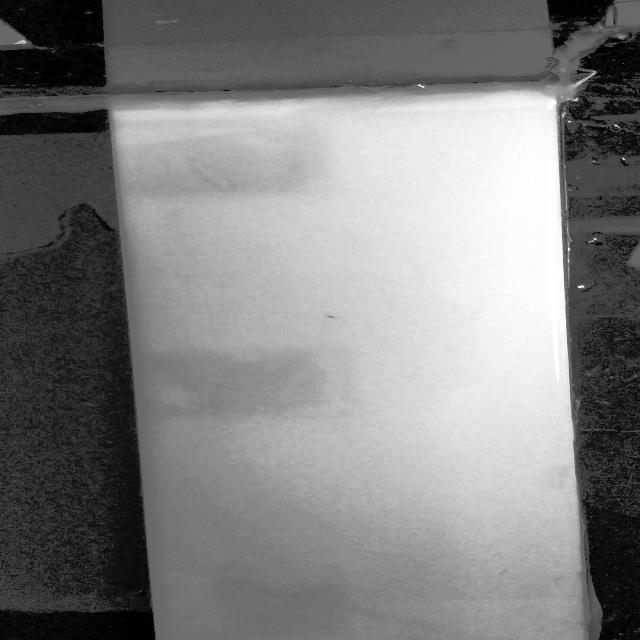shrimp: (315, 311, 351, 322)
